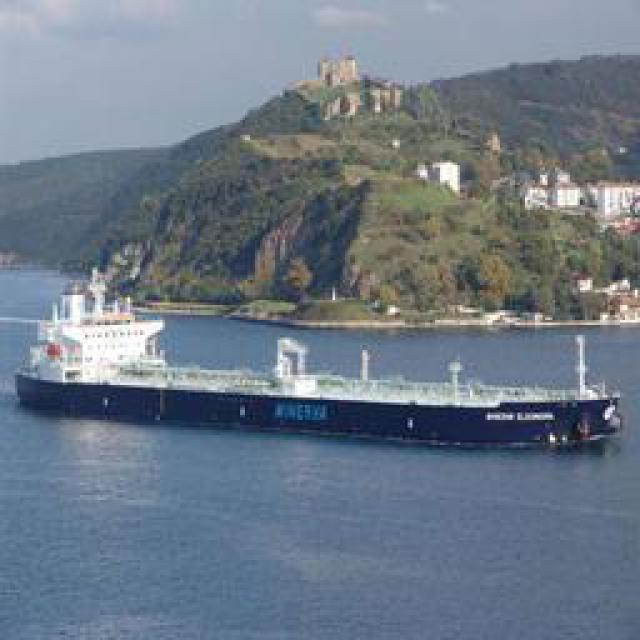Ship: (6, 280, 634, 448)
